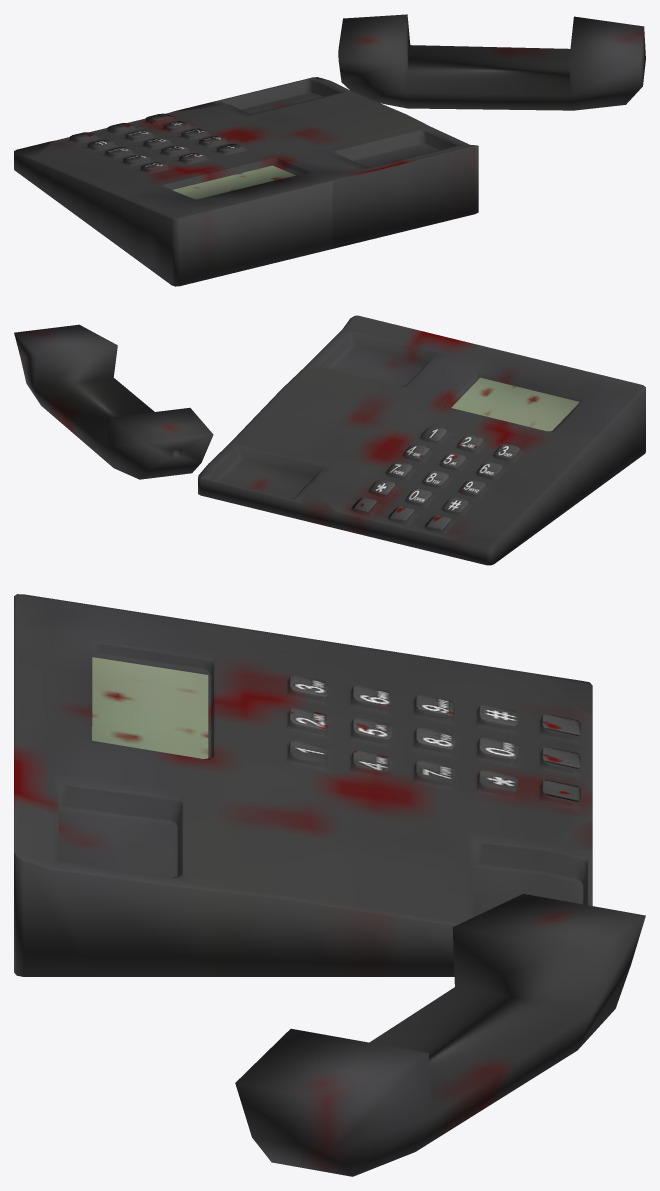
File: Telefono.fbx
3 renders of one model, top to bottom at view 1: azimuth 30°, elevation 25°; view 2: azimuth 150°, elevation 25°; view 3: azimuth 270°, elevation 25°, orthographic. The views are drawn at different scales.
Visible parts, largest first — view 1: Telefono; view 2: Telefono; view 3: Telefono.
Part boxes in pixels (x1,y1,x2,y2): Telefono: (14,14,645,286); Telefono: (14,315,645,565); Telefono: (14,594,645,1176).
Size of the model in its own units: 43.54 by 5.26 by 23.81.
